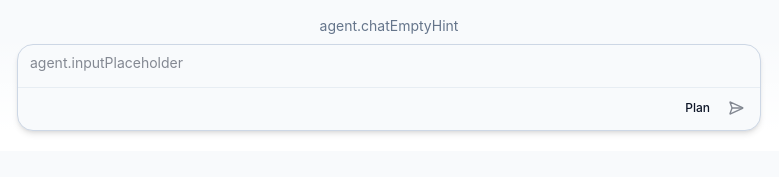
ChatStream running state › selects the highlighted mention item on Enter without sending
The width and height of the screenshot is (779, 177).
Type "@mai" into the text box with placeholder "agent.inputPlaceholder" at coordinates (389, 63), box 18,45 -> 760,81
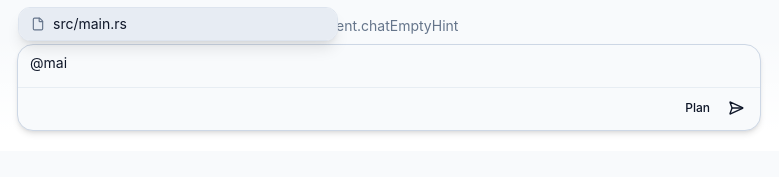
Now the text "src/main.rs" is shown, box 53,14 -> 127,34
Note: 弹层打开时按 Enter → 选中高亮项，而非发送消息
Press Enter in the text box with placeholder "agent.inputPlaceholder", box 18,45 -> 760,81
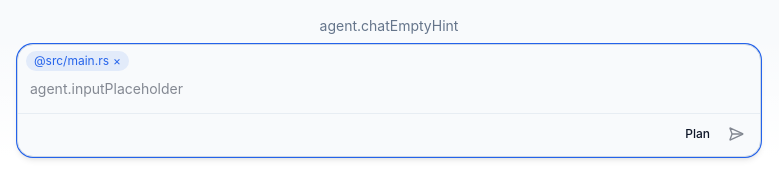
Now the text "@src/main.rs" is shown, box 26,51 -> 129,71
Now the text box with placeholder "agent.inputPlaceholder" is empty, box 18,71 -> 760,107
